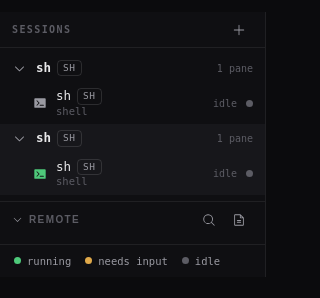
Sidebar — renaming a session › edits one session at a time: double-clicking another moves the field there
Double-click the 1st text with class "session": {"x": 44, "y": 68} [36, 60, 51, 76]
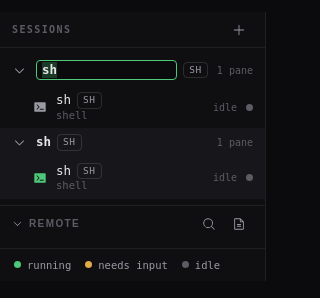
Replace the text in the field with class "tree-rename" with "one": {"x": 107, "y": 70} [36, 60, 177, 80]
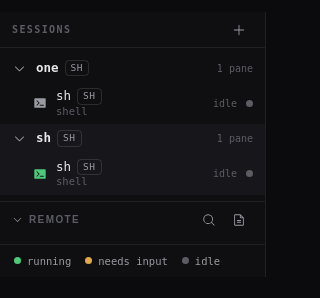
Double-click the 2nd text with class "session": {"x": 44, "y": 139} [36, 130, 51, 147]
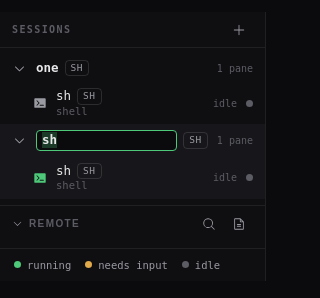
Expected: the text "one" is shown, [36, 60, 59, 76]
Expected: the number of fields with class "tree-rename" is 1, [36, 130, 177, 151]
Expected: the field with class "tree-rename" holds "sh", [36, 130, 177, 151]
